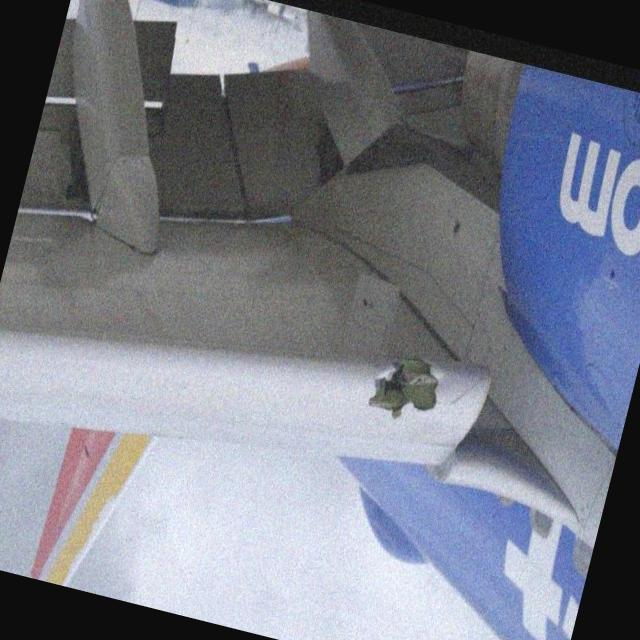crack: (362, 345, 448, 425)
